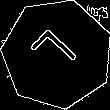L_SE: (28, 25, 86, 83)
